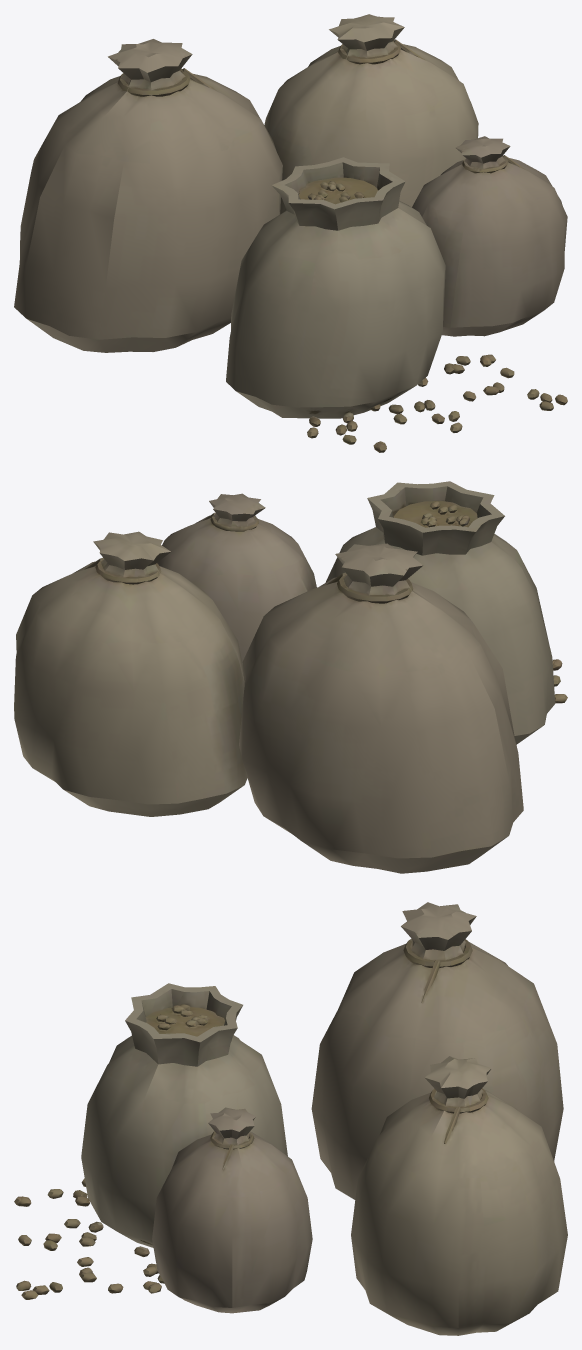
Rendered from sacks.glb.
The picture shows the model from 3 angles, top to bottom: view 1: azimuth 30°, elevation 25°; view 2: azimuth 150°, elevation 25°; view 3: azimuth 270°, elevation 25°; orthographic projection. The views are drawn at different scales.
Visible parts, largest first — view 1: sacks; view 2: sacks; view 3: sacks.
Part boxes in pixels (x1,y1,x2,y2): sacks: [14, 14, 567, 452]; sacks: [14, 481, 567, 873]; sacks: [14, 902, 567, 1335].
Bounding box in the file's own units: 0.8007 × 0.4456 × 0.8078.
Materials: 1 (1 with a texture image).
